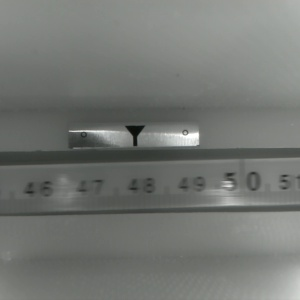0: (245, 172, 260, 191)
1: (291, 174, 299, 189)
4: (22, 181, 36, 196), (77, 180, 90, 194), (177, 177, 188, 192), (128, 178, 139, 193)
5: (222, 173, 237, 191), (279, 174, 290, 189)
6: (39, 180, 52, 197)
8: (144, 178, 155, 193)
9: (193, 176, 205, 193)
finger: (122, 126, 145, 146)
